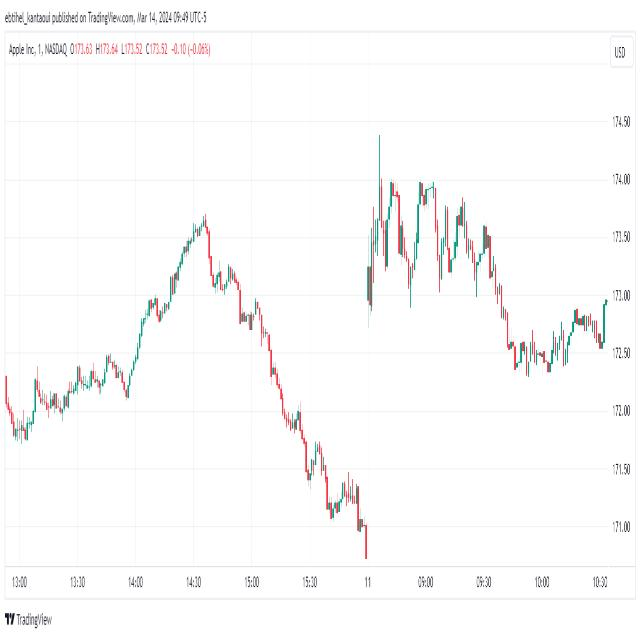Triple-Top: (437, 196, 501, 282)
